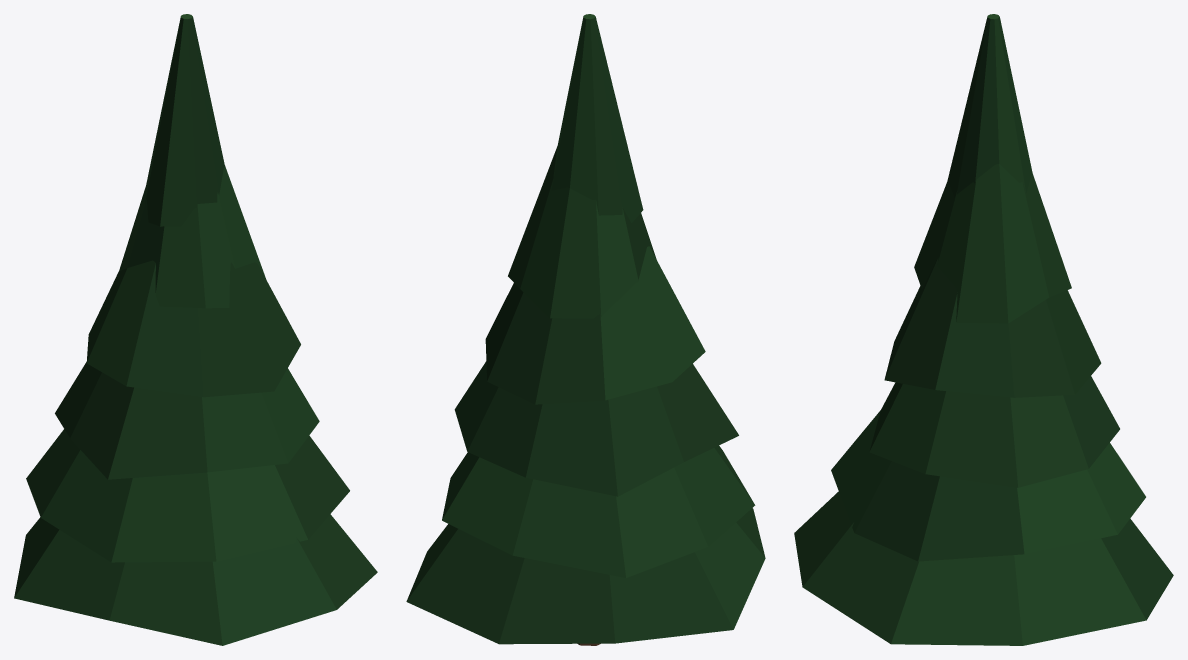
The model's file is spruce_1.glb.
3 views of the same model, side by side, from view 1: azimuth 30°, elevation 25°; view 2: azimuth 150°, elevation 25°; view 3: azimuth 270°, elevation 25° (orthographic).
Visible parts, largest first — view 1: trunk; view 2: trunk; view 3: trunk.
Boxes of the visible parts, <box> form: trunk: <box>14,14,377,645</box>; trunk: <box>406,14,765,645</box>; trunk: <box>794,14,1173,645</box>.
Size of the model in its own units: 5.28 by 10.21 by 5.68.
